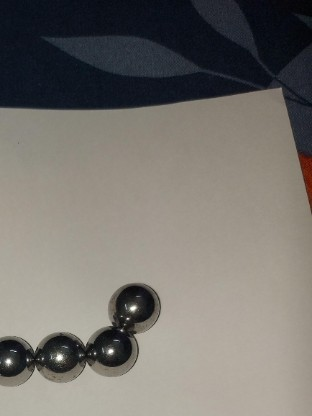ironball: (107, 278, 164, 336), (84, 324, 145, 377), (32, 329, 85, 383), (0, 328, 36, 389)
